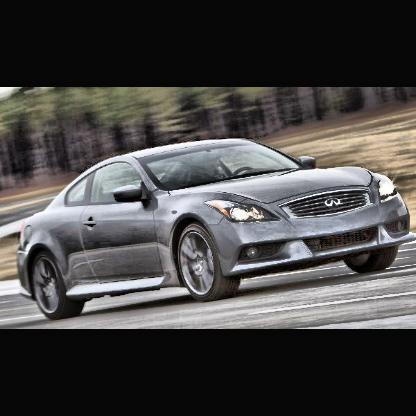Infiniti G Coupe IPL 2012: (18, 138, 416, 321)
